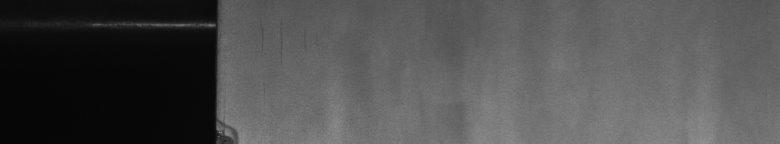hb: (228, 120, 245, 136)
